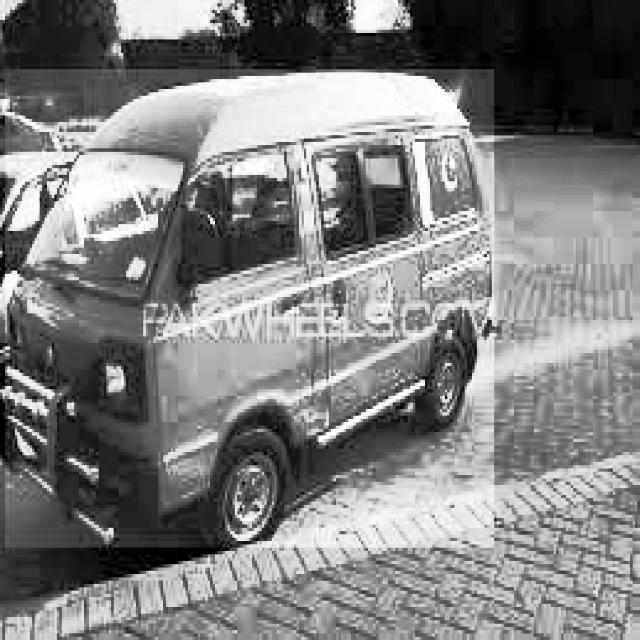LCV: (5, 69, 497, 551)
